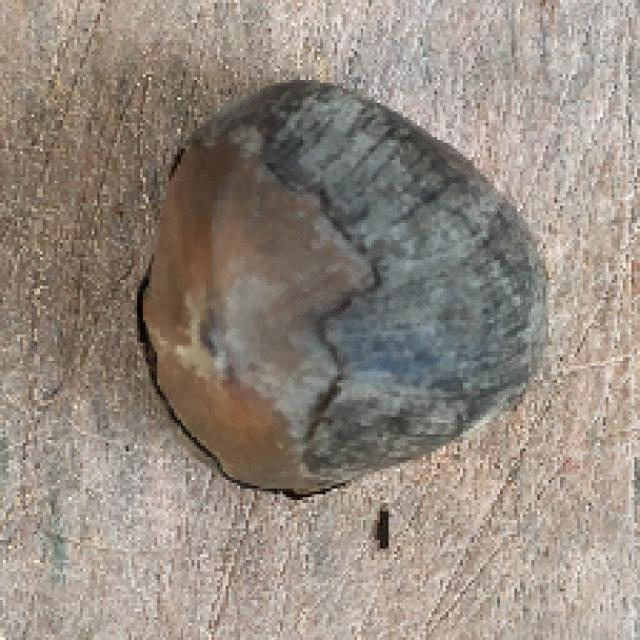damagedHazelnut: (114, 71, 551, 508)
